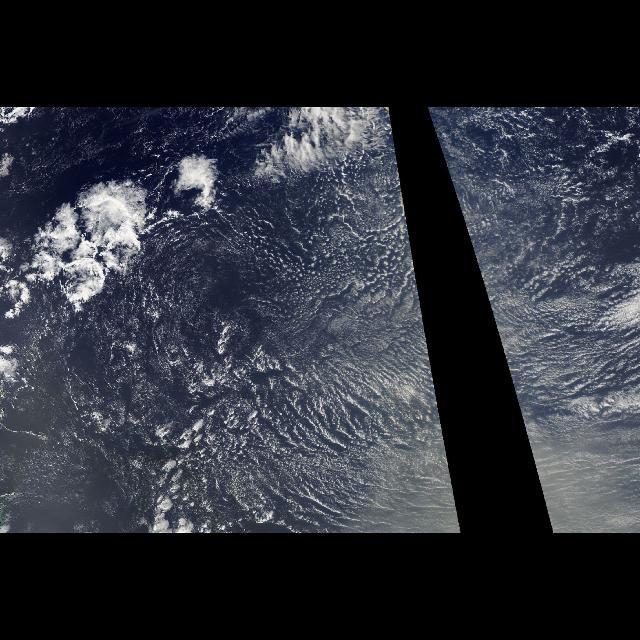Gravel: (144, 253, 442, 523)
Sugar: (143, 184, 463, 530), (452, 184, 638, 530)
